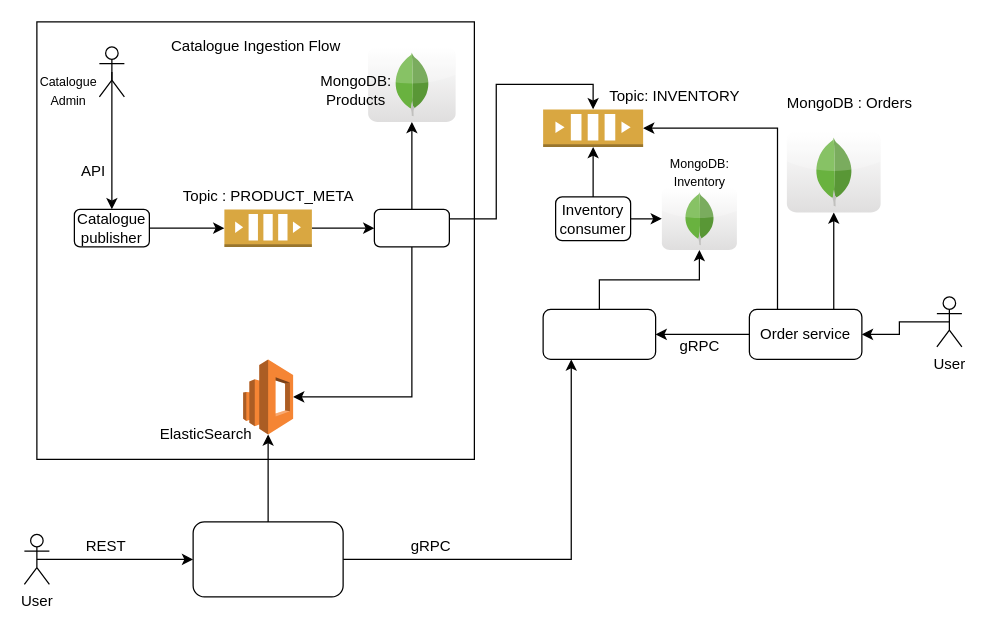
Some shapes in this 986 by 633 pixel diagram are drawn without their labels. Each missing label, with the box of its shape:
Catalogue consumer: (373, 208, 449, 247)
Inventory service: (542, 308, 656, 359)
Search service: (192, 521, 343, 597)
